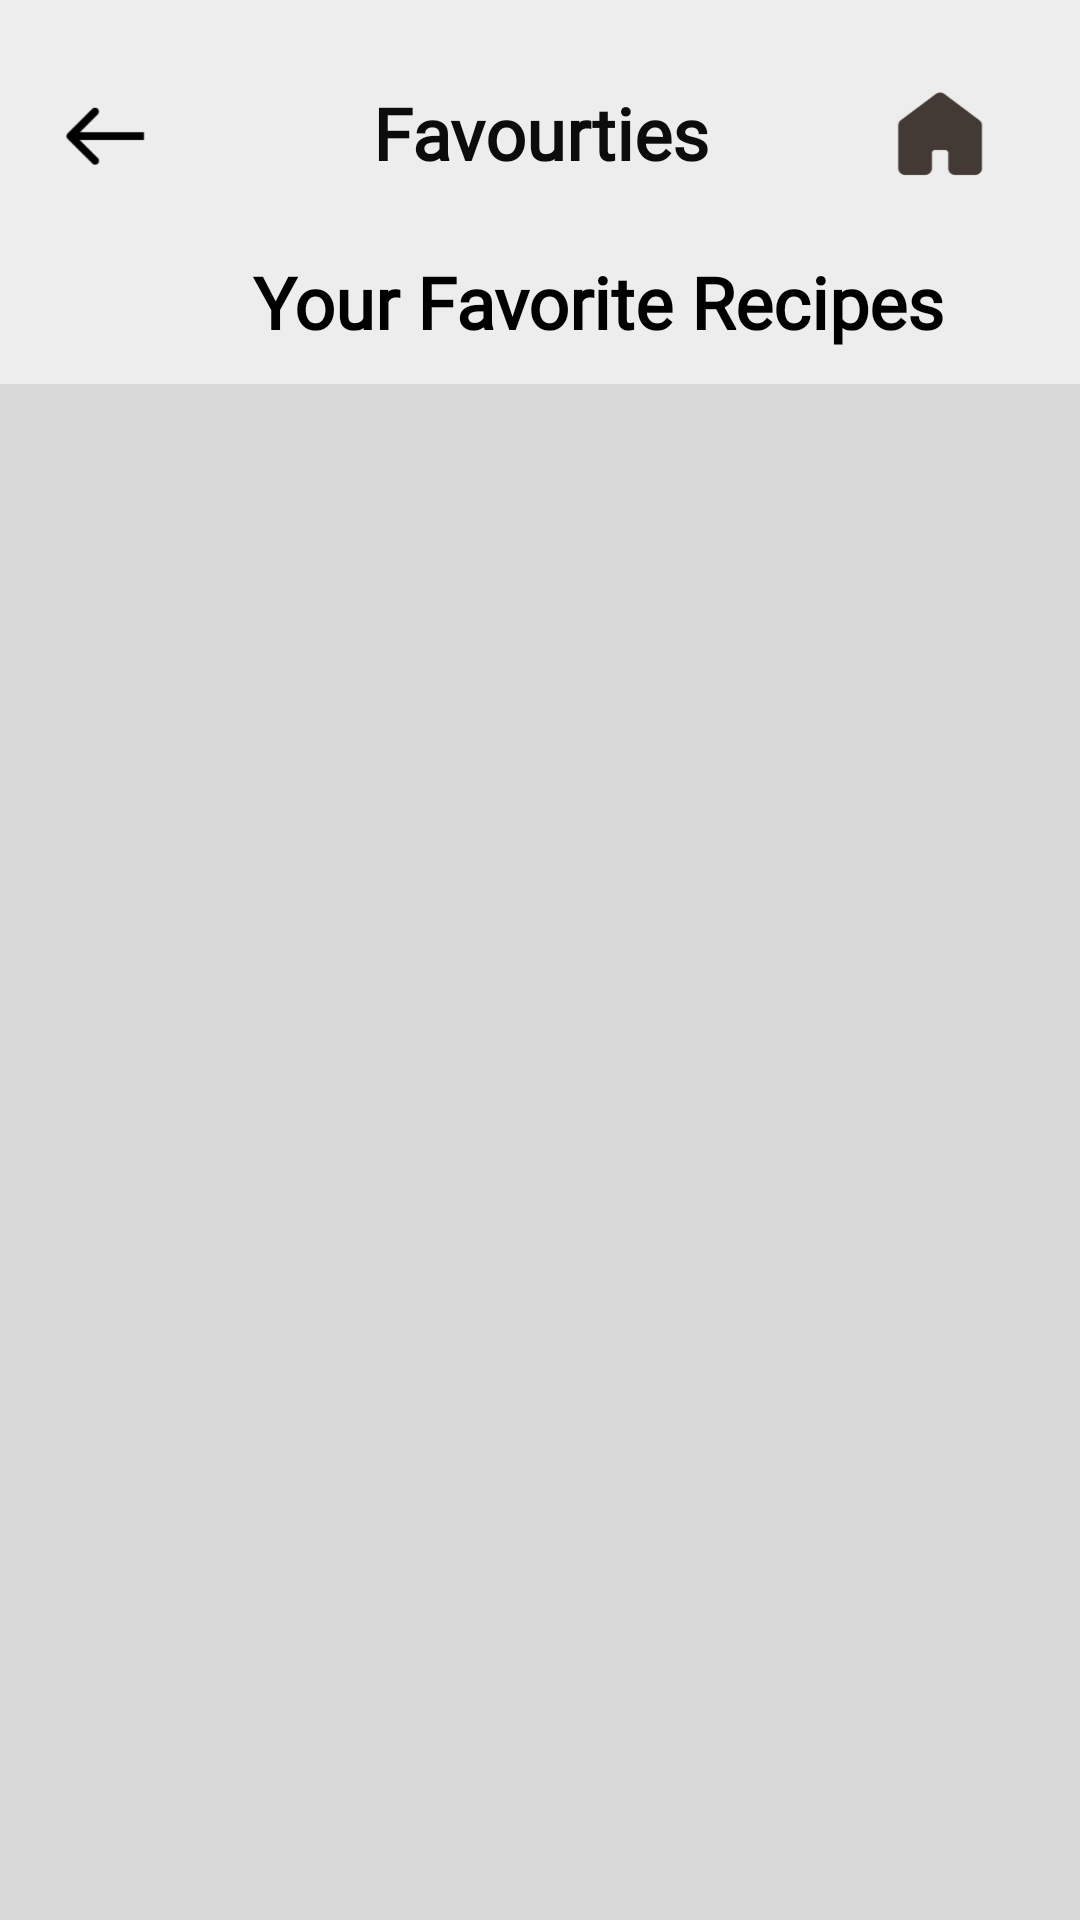

Named icons in this screenshot (1080 x 1920) and their bounding boxes, [x1,y1,x2,y2]:
arrow: [66,107,145,165]
home: [898,92,983,175]
